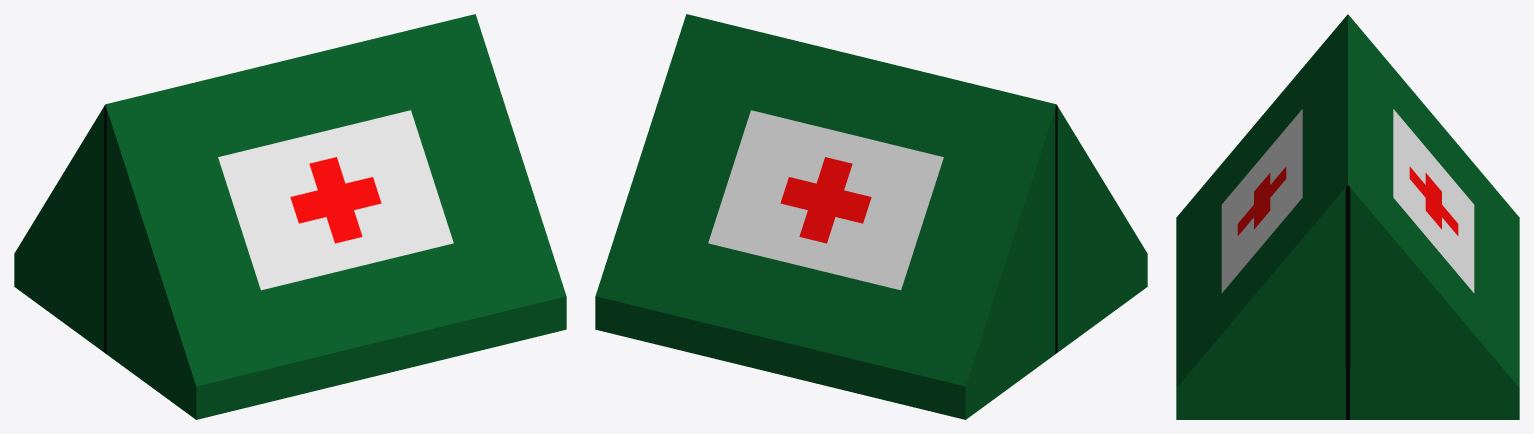
File: Camp.fbx
3 views of the same model, side by side, from view 1: azimuth 30°, elevation 25°; view 2: azimuth 150°, elevation 25°; view 3: azimuth 270°, elevation 25° (orthographic). The views are drawn at different scales.
Parts seen in each view (by area): view 1: Camp; view 2: Camp; view 3: Camp.
Boxes of the visible parts, x1,y1,x2,y2 form: Camp: (14, 14, 566, 419); Camp: (595, 14, 1147, 419); Camp: (1176, 14, 1519, 419).
Size of the model in its own units: 322 by 207 by 274.
